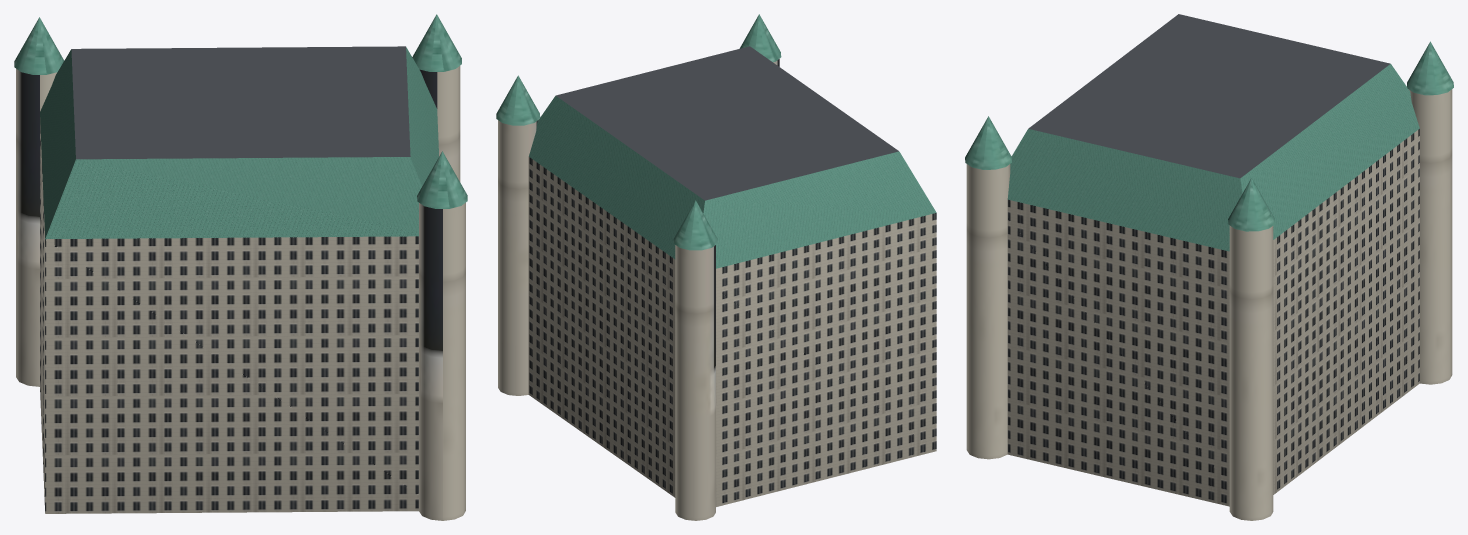
File: plaza.glb
The picture shows the model from 3 angles, left to right: view 1: azimuth 30°, elevation 25°; view 2: azimuth 150°, elevation 25°; view 3: azimuth 270°, elevation 25°; orthographic projection. The views are drawn at different scales.
Visible parts, largest first — view 1: plaza; view 2: plaza; view 3: plaza.
Boxes of the visible parts, x1,y1,x2,y2 form: plaza: (14, 14, 467, 520); plaza: (496, 14, 936, 520); plaza: (965, 14, 1453, 520).
Size of the model in its own units: 101 by 76 by 101.
10 materials, 9 textured.
